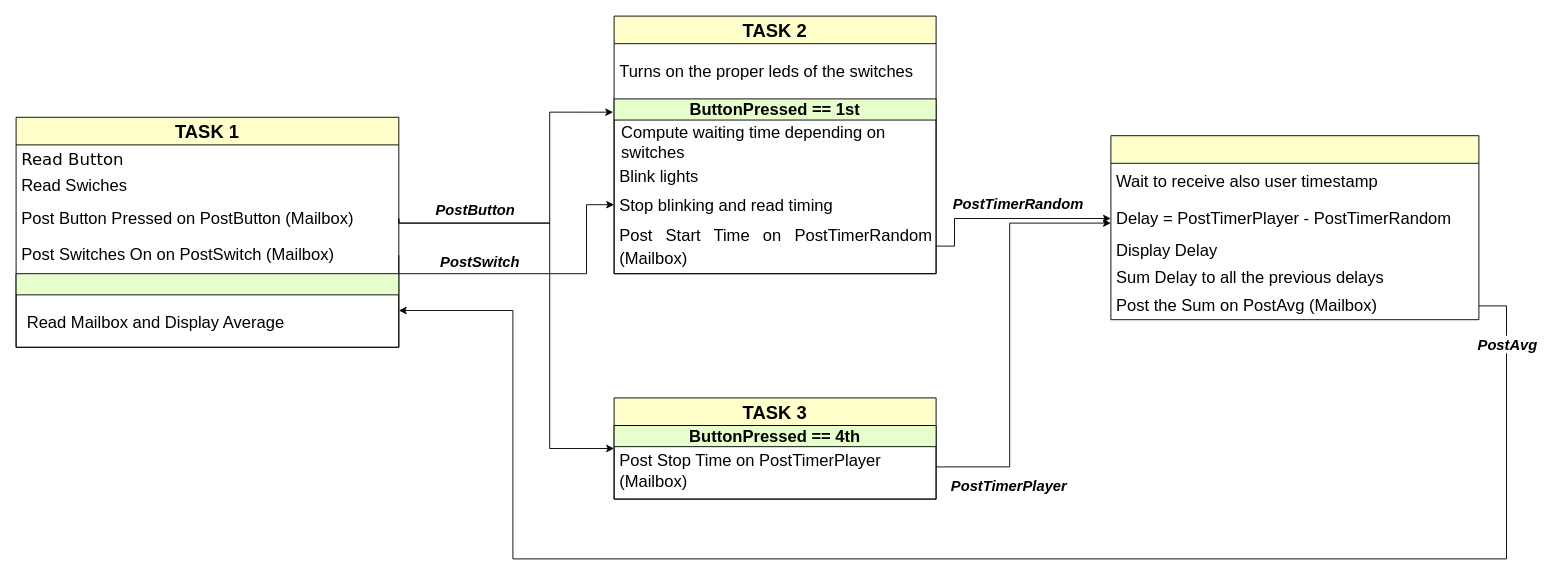
This 1553x582 diagram has some shape labels left out. Here are the shapes that lost their labels. From the top down, the box of each, then its label:
(1110, 135, 1479, 320): TASK 4
(15, 273, 399, 347): ButtonPressed == 2nd
